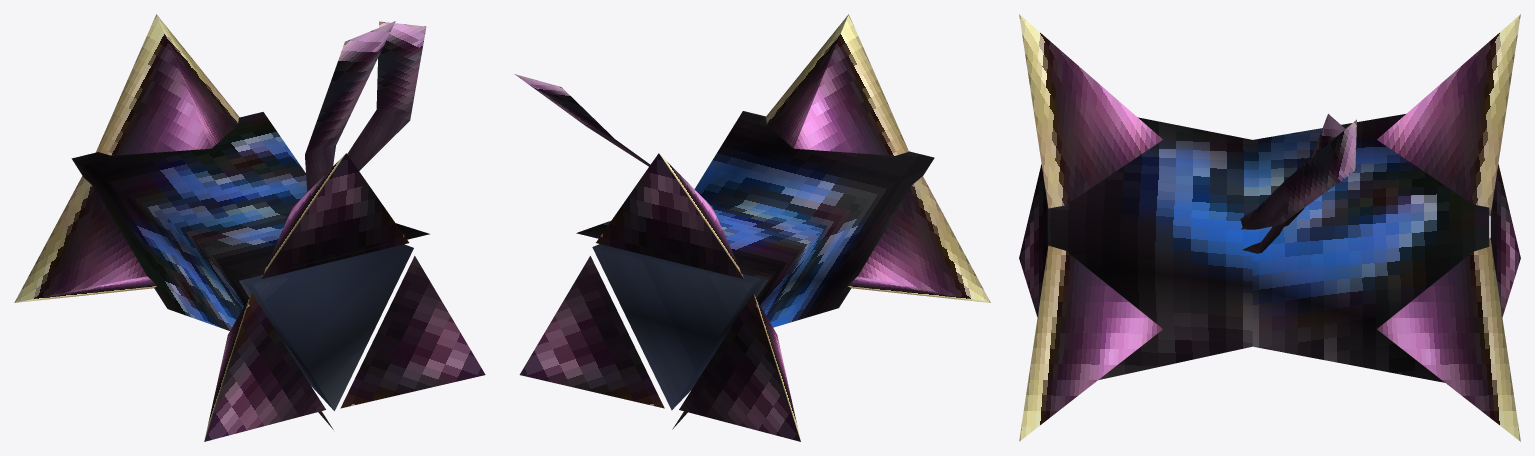
Rendered from SummonBook.glb.
3 views of the same model, side by side, from view 1: azimuth 30°, elevation 25°; view 2: azimuth 150°, elevation 25°; view 3: azimuth 270°, elevation 25° (orthographic). The views are drawn at different scales.
Parts seen in each view (by area): view 1: model_SummonBook; view 2: model_SummonBook; view 3: model_SummonBook.
Boxes of the visible parts, x1,y1,x2,y2 form: model_SummonBook: (14,14,485,441); model_SummonBook: (514,14,990,441); model_SummonBook: (1019,14,1520,441).
Bounding box in the file's own units: 0.392 × 0.3127 × 0.3689.
Materials: 2 (2 with a texture image).
